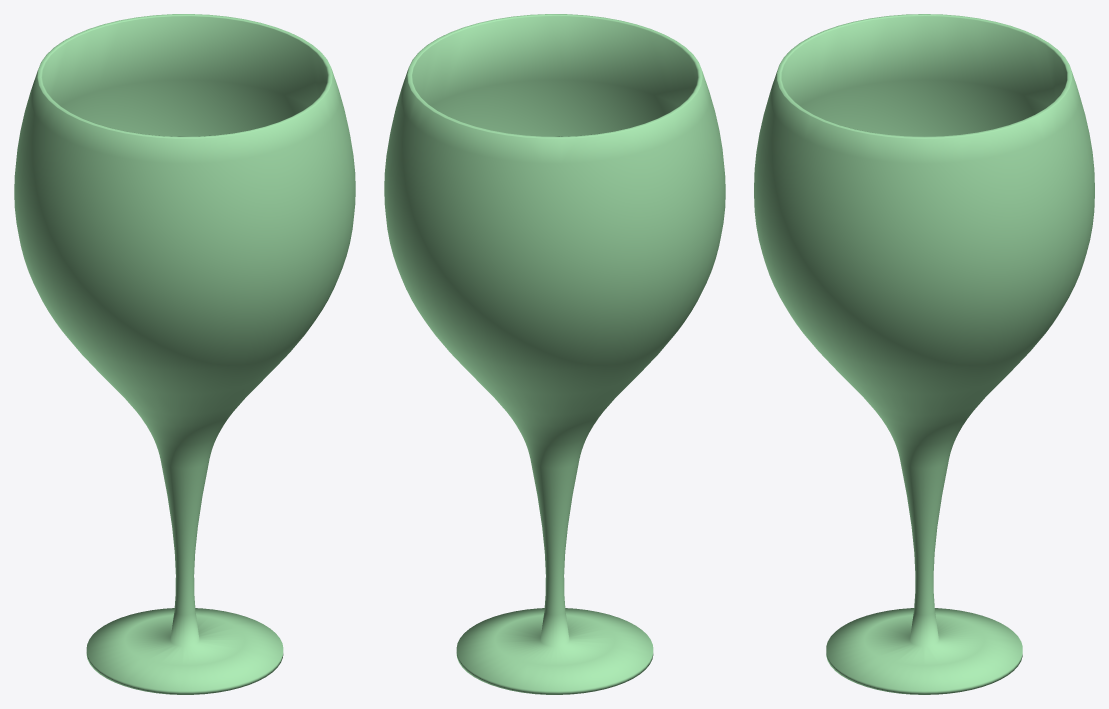
File: DrinkGlass_3.fbx
3 views of the same model, side by side, from view 1: azimuth 30°, elevation 25°; view 2: azimuth 150°, elevation 25°; view 3: azimuth 270°, elevation 25° (orthographic).
Visible parts, largest first — view 1: DrinkGlass 3; view 2: DrinkGlass 3; view 3: DrinkGlass 3.
Part boxes in pixels (x1,y1,x2,y2): DrinkGlass 3: (14, 14, 355, 694); DrinkGlass 3: (384, 14, 725, 694); DrinkGlass 3: (754, 14, 1094, 694).
Bounding box in the file's own units: 0.0911 × 0.1699 × 0.0909.
